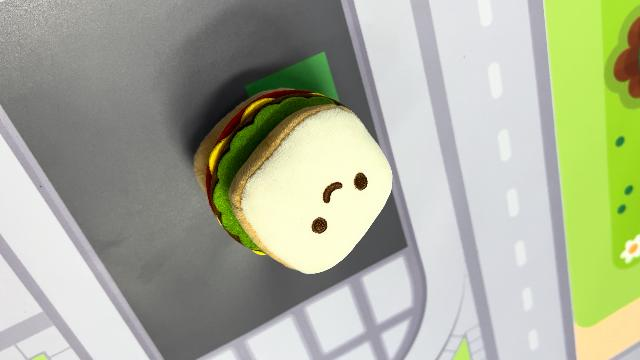sandwich: (190, 84, 396, 276)
